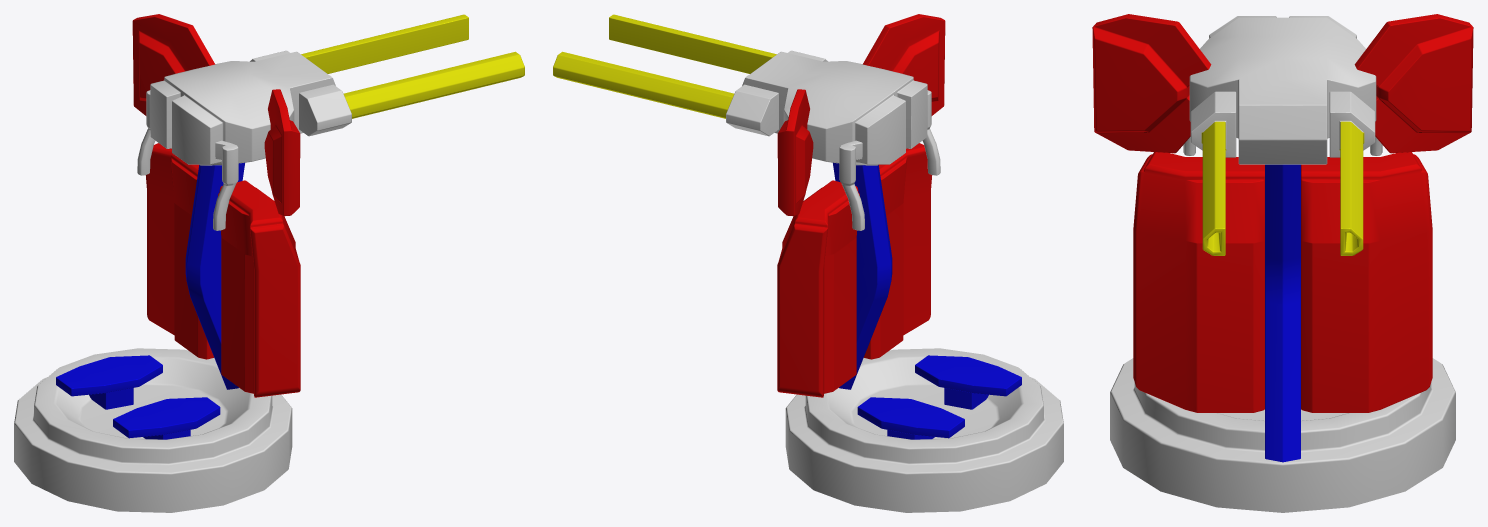
The model's file is SM_ProwlerCannon.fbx.
3 renders of one model, left to right at view 1: azimuth 30°, elevation 25°; view 2: azimuth 150°, elevation 25°; view 3: azimuth 270°, elevation 25°, orthographic. The views are drawn at different scales.
Visible parts, largest first — view 1: MeshBackCannon, MeshCannonRoot; view 2: MeshBackCannon, MeshCannonRoot; view 3: MeshBackCannon, MeshCannonRoot.
Boxes of the visible parts, x1=… form: MeshBackCannon: x1=56, y1=14, x2=524, y2=439; MeshCannonRoot: x1=14, y1=348, x2=292, y2=512; MeshBackCannon: x1=553, y1=14, x2=1021, y2=439; MeshCannonRoot: x1=785, y1=348, x2=1063, y2=512; MeshBackCannon: x1=1092, y1=14, x2=1473, y2=462; MeshCannonRoot: x1=1110, y1=358, x2=1455, y2=512.
Size of the model in its own units: 189 by 109 by 147.
